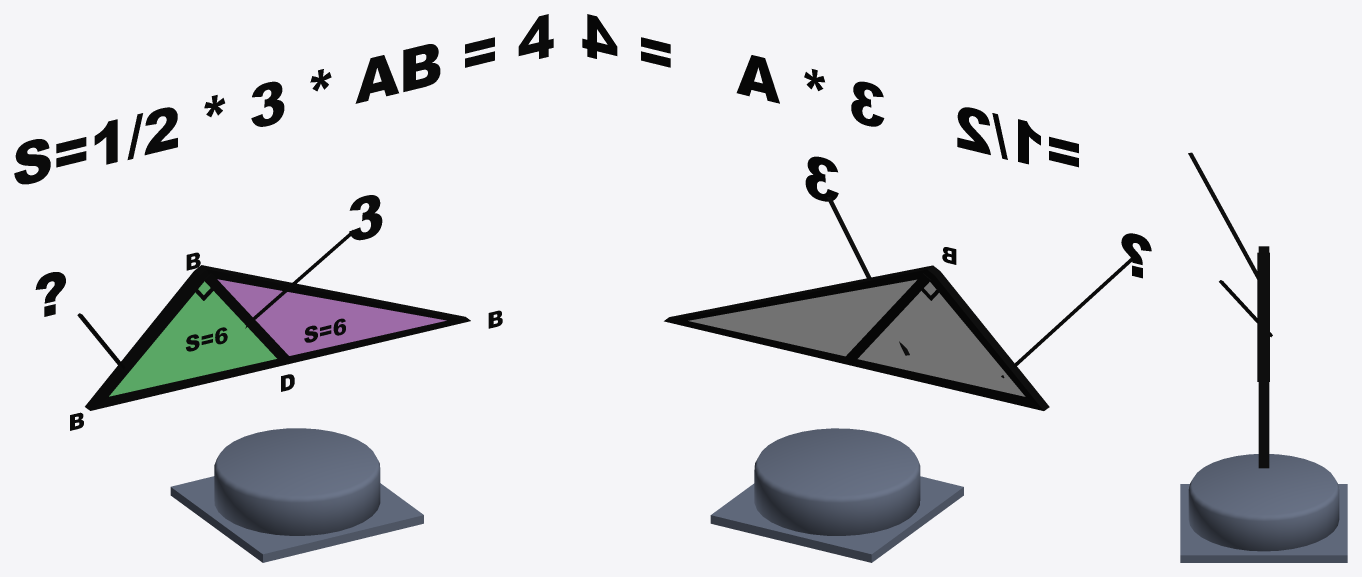
3 views of the same model, side by side, from view 1: azimuth 30°, elevation 25°; view 2: azimuth 150°, elevation 25°; view 3: azimuth 270°, elevation 25° (orthographic). The views are drawn at different scales.
Parts seen in each view (by area): view 1: Cube.006, Cylinder, Text.009, Cube, Cube.001, Text.007, Text.008; view 2: Cube.006, Cylinder, Text.009, Cube, Cube.001, Text.007; view 3: Cylinder, Cube, Cube.006, Cube.005, Cube.001, Cube.004.
Part boxes in pixels (x1,y1,x2,y2): Cube.006: (85,265,470,410); Cylinder: (214,428,380,535); Text.009: (14,14,553,184); Cube: (170,476,423,562); Cube.001: (203,273,290,364); Text.007: (349,195,382,240); Text.008: (35,272,65,316); Cube.006: (664,265,1049,410); Cylinder: (754,428,920,535); Text.009: (582,14,1078,167); Cube: (710,476,963,562); Cube.001: (844,273,930,364); Text.007: (805,156,838,201); Cylinder: (1188,454,1339,551); Cube: (1180,484,1347,562); Cube.006: (1258,246,1269,468); Cube.005: (1188,152,1257,279); Cube.001: (1257,252,1269,381); Cube.004: (1219,280,1272,337).
Bounding box in the file's own units: 30.91 × 23.59 × 9.09.
